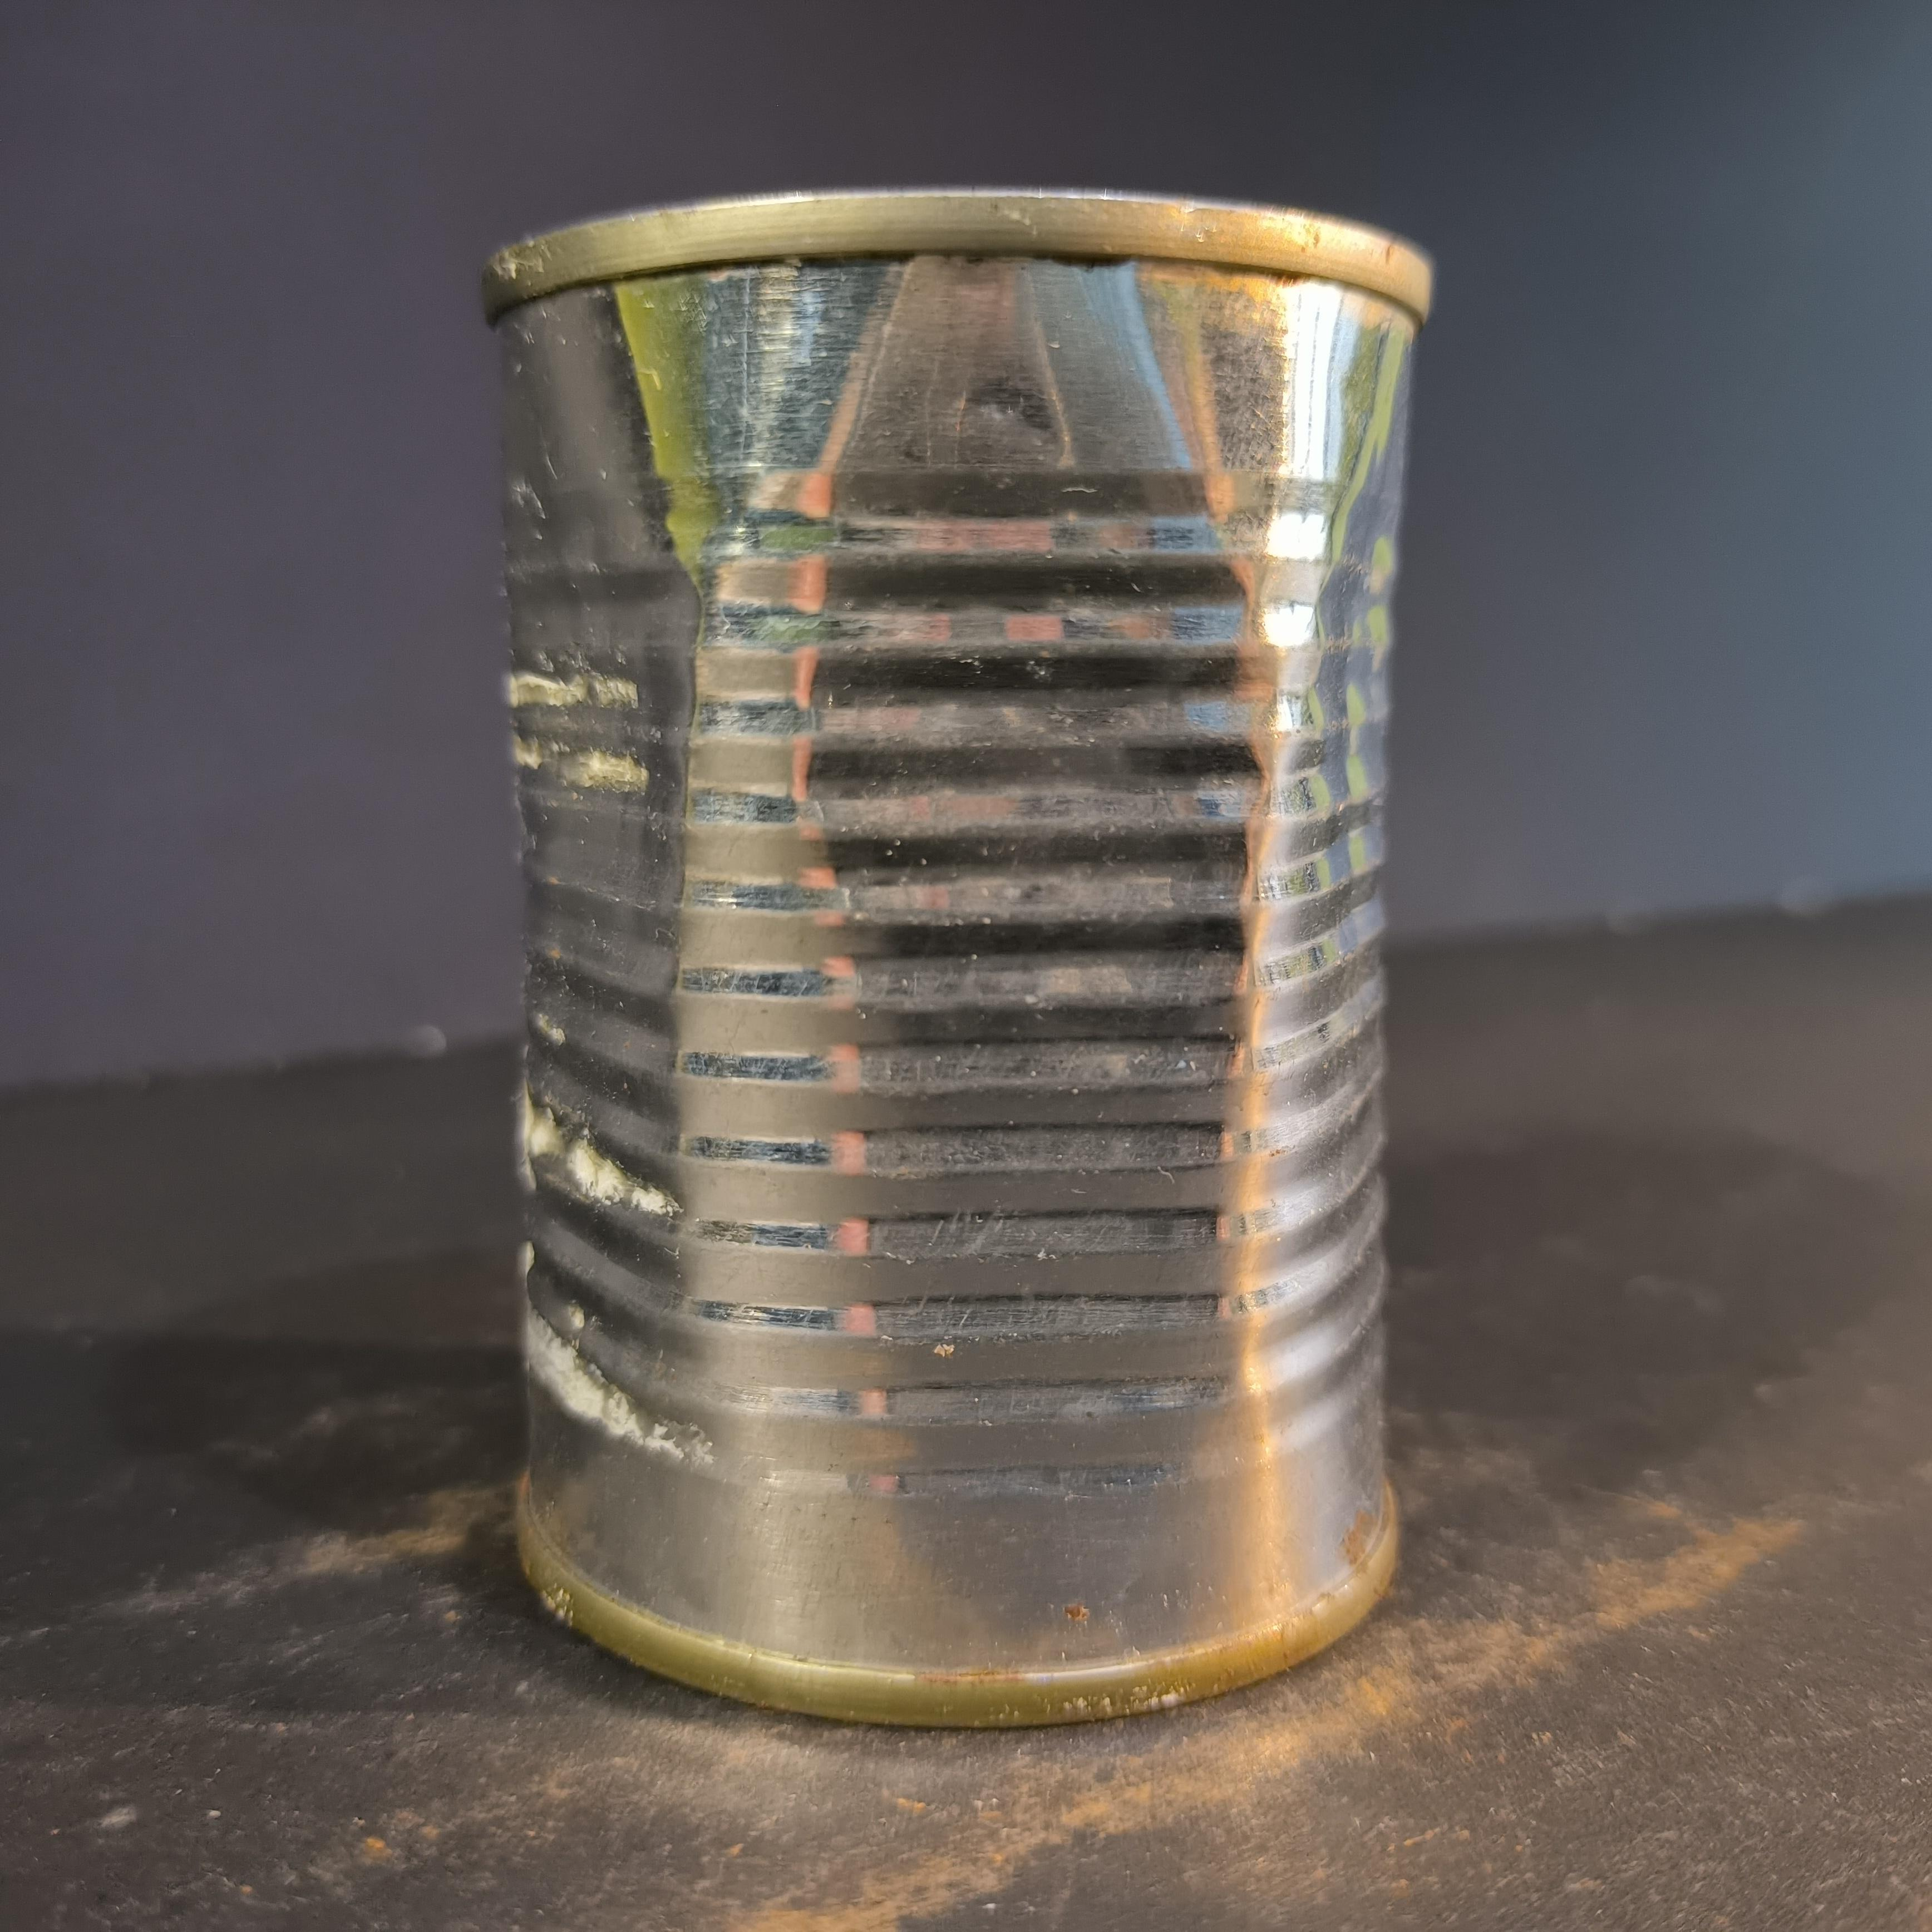Dented: (419, 142, 1481, 1789)
